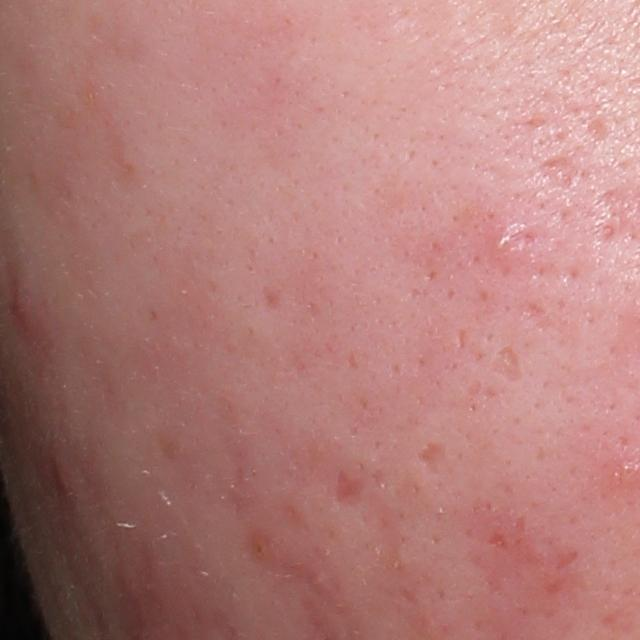atrophic_scar: (525, 150, 586, 197), (413, 439, 450, 480), (488, 343, 525, 382), (332, 468, 364, 508), (257, 284, 287, 315), (585, 116, 613, 149), (484, 529, 511, 552), (455, 327, 469, 350)
papule: (487, 222, 523, 263), (11, 291, 38, 333), (51, 457, 77, 498)
